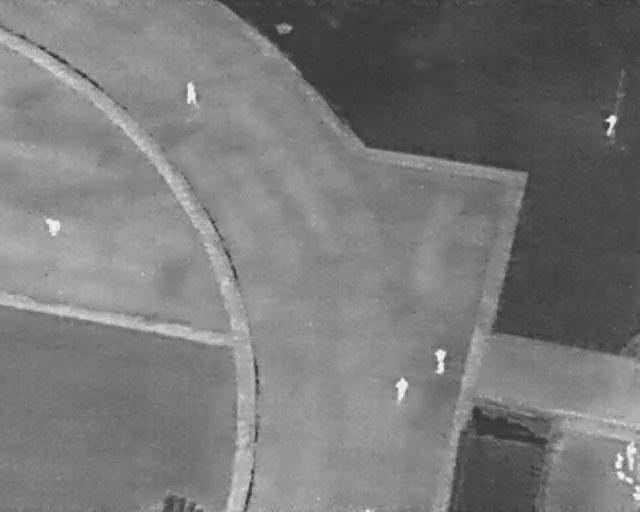DontCare: (613, 436, 640, 501)
Person: (433, 346, 448, 374), (395, 376, 410, 401), (45, 216, 61, 238), (603, 115, 617, 139), (185, 82, 197, 105)
